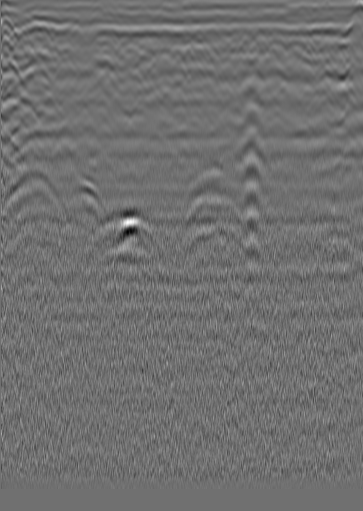가스: (104, 211, 150, 246)
상수: (299, 34, 319, 54)
오수: (36, 31, 56, 51)
우수: (180, 47, 200, 67)
